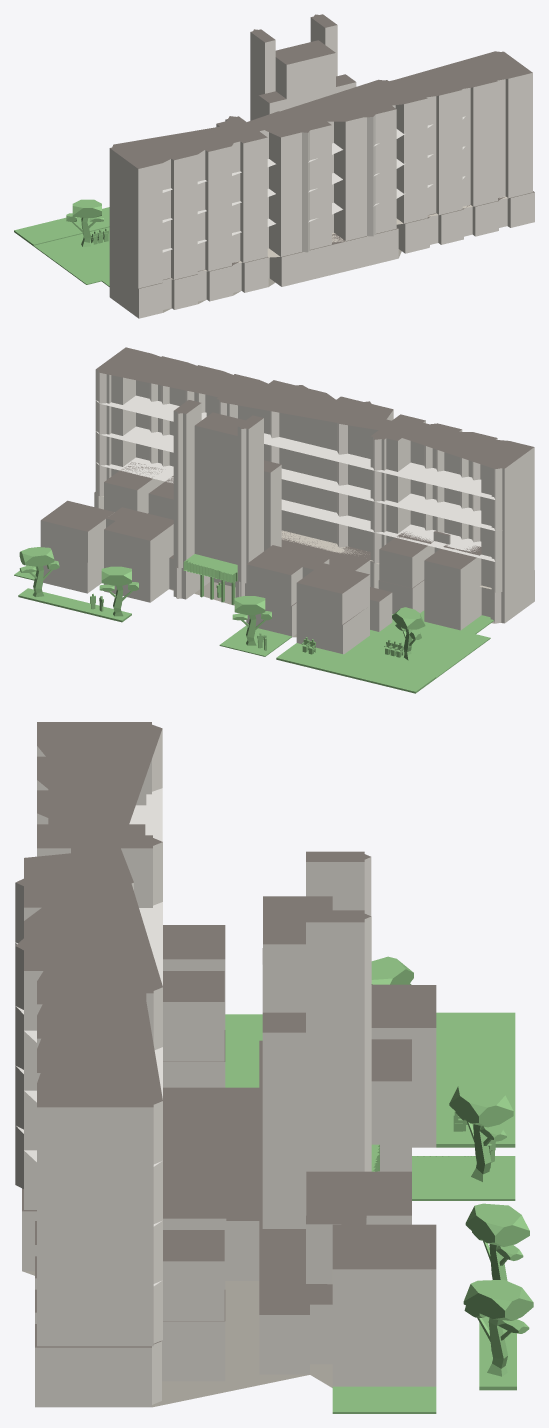
Rendered from wissal_rami_v3.glb.
3 views of the same model, one above another, from view 1: azimuth 30°, elevation 25°; view 2: azimuth 150°, elevation 25°; view 3: azimuth 270°, elevation 25° (orthographic). The views are drawn at different scales.
Visible parts, largest first — view 1: ExteriorWall, Roof, Shade, Ceiling; view 2: ExteriorWall, Roof, Shade, Ceiling, InteriorFloor; view 3: ExteriorWall, Roof, Shade, UndergroundSlab, Ceiling.
Boxes of the visible parts, box(x1,y1,x2,y2) form: ExteriorWall: box(109, 17, 534, 318); Roof: box(110, 14, 534, 288); Shade: box(14, 199, 109, 286); Ceiling: box(162, 116, 465, 252); ExteriorWall: box(40, 369, 534, 654); Roof: box(41, 347, 533, 624); Shade: box(14, 547, 493, 693); Ceiling: box(96, 395, 494, 561); InteriorFloor: box(101, 496, 491, 589); ExteriorWall: box(15, 729, 436, 1407); Roof: box(16, 722, 436, 1347); Shade: box(225, 956, 533, 1413); UndergroundSlab: box(23, 1271, 332, 1407); Ceiling: box(15, 788, 162, 1285).
Bounding box in the file's own units: 49.95 × 21 × 27.51.
